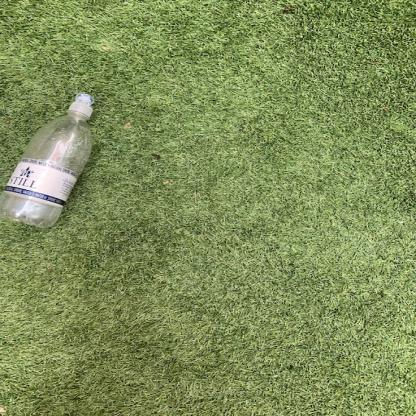trash: (0, 92, 98, 232)
